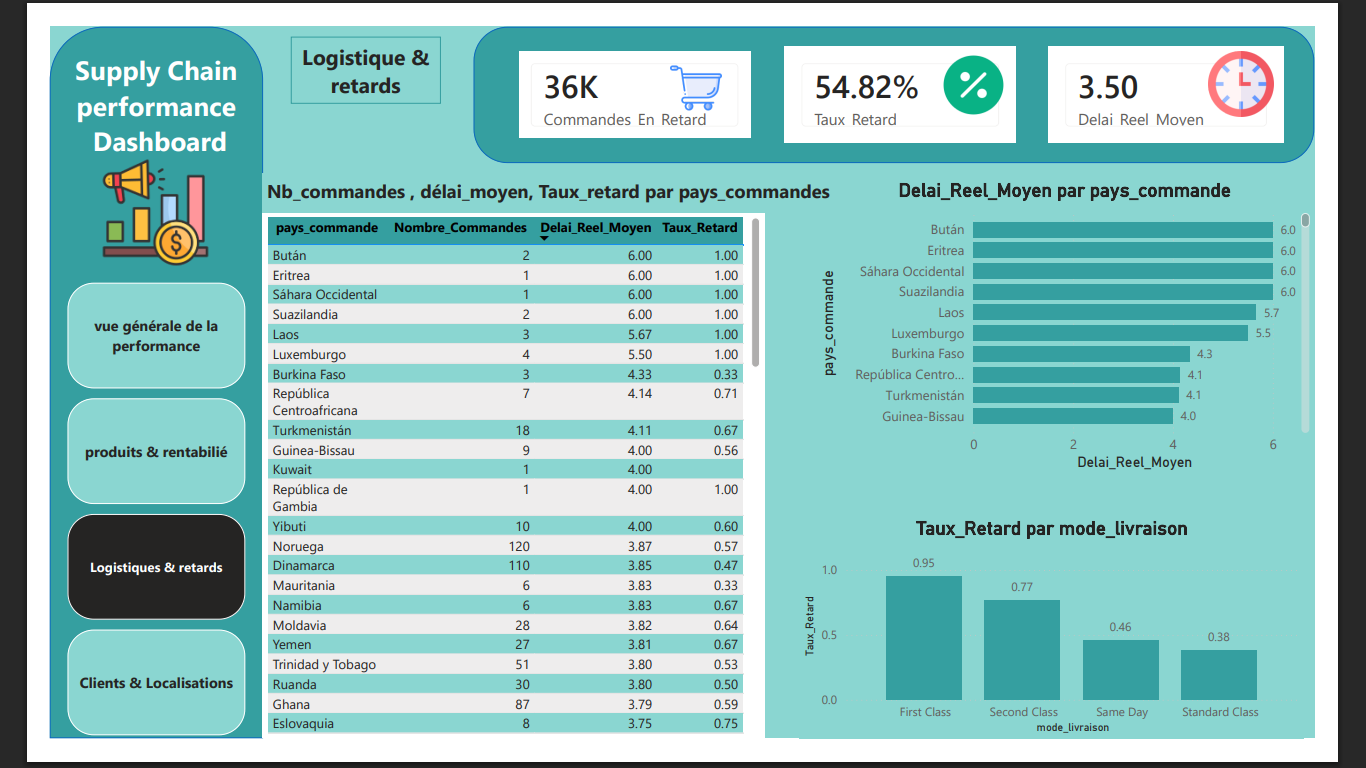

The dashboard page shown, as its layout file describes it:
{"tool":"powerbi","page":{"name":"Logistiques & retards","canvas":[1280,720],"ordinal":2},"visuals":[{"type":"shape","box":[428.8,0,851.2,137.5],"z":0},{"type":"shape","box":[0,0,215.6,720],"z":1000},{"type":"cardVisual","fields":{"Data":["mesures.Commandes_En_Retard"]},"box":[470,20,243.8,97.5],"z":2000},{"type":"cardVisual","fields":{"Data":["mesures.Delai_Reel_Moyen"]},"box":[1011.2,20,237.5,97.5],"z":3000},{"type":"cardVisual","fields":{"Data":["mesures.Taux_Retard"]},"box":[743.8,20,233.8,97.5],"z":4000},{"type":"clusteredBarChart","fields":{"Category":["Localisation.pays_commande"],"Y":["mesures.Delai_Reel_Moyen"]},"box":[775,153.8,505,300],"z":5000},{"type":"clusteredColumnChart","fields":{"Y":["mesures.Taux_Retard"],"Category":["Faits.mode_livraison"]},"box":[758.8,496.2,511.2,223.8],"z":6000},{"type":"tableEx","fields":{"Values":["Localisation.pays_commande","mesures.Nombre_Commandes","mesures.Delai_Reel_Moyen","mesures.Taux_Retard"]},"box":[215,187.5,508.8,532.5],"z":7000},{"type":"textbox","box":[215,147.5,585,40],"z":8000},{"type":"textbox","box":[17.5,20,180,133.8],"z":9000},{"type":"pageNavigator","box":[17.5,258.8,180,461.2],"z":10000},{"type":"image","box":[611.2,36.2,85,51.2],"z":11000},{"type":"image","box":[903.8,8.8,62.5,98.8],"z":11501},{"type":"image","box":[1172.5,10,66.2,96.2],"z":11502},{"type":"image","box":[50,130,113.8,115],"z":11503},{"type":"textbox","box":[243.8,10,152.5,67.5],"z":11504}]}

Visuals, with their boxes in screenshot pixels (x1, y1, x2, y2), scaled from the page's 1280x720 canvas onto the 1366x768 screenshot:
shape: bbox=[458, 0, 1365, 147]
shape: bbox=[0, 0, 230, 767]
cardVisual - mesures.Commandes_En_Retard: bbox=[502, 21, 762, 125]
cardVisual - mesures.Delai_Reel_Moyen: bbox=[1079, 21, 1333, 125]
cardVisual - mesures.Taux_Retard: bbox=[794, 21, 1043, 125]
clusteredBarChart - Localisation.pays_commande x mesures.Delai_Reel_Moyen: bbox=[827, 164, 1365, 484]
clusteredColumnChart - mesures.Taux_Retard x Faits.mode_livraison: bbox=[810, 529, 1355, 767]
tableEx - Localisation.pays_commande x mesures.Nombre_Commandes: bbox=[229, 200, 772, 767]
textbox: bbox=[229, 157, 854, 200]
textbox: bbox=[19, 21, 211, 164]
pageNavigator: bbox=[19, 276, 211, 767]
image: bbox=[652, 39, 743, 93]
image: bbox=[965, 9, 1031, 115]
image: bbox=[1251, 11, 1322, 113]
image: bbox=[53, 139, 175, 261]
textbox: bbox=[260, 11, 423, 83]
